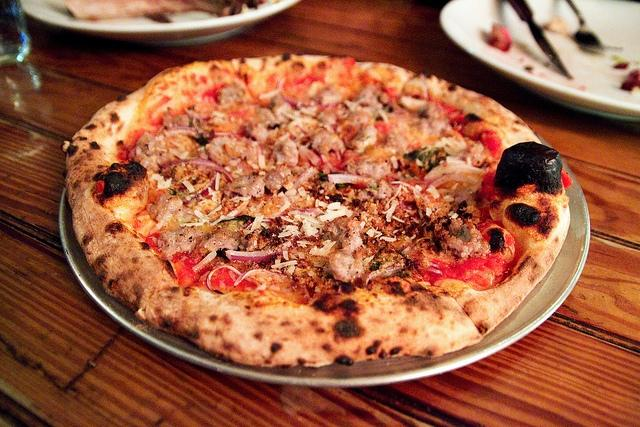onion: (162, 158, 235, 183), (192, 115, 232, 138), (350, 98, 388, 122), (424, 174, 480, 190), (190, 170, 217, 200), (226, 249, 278, 263), (277, 78, 298, 108), (328, 174, 368, 188), (400, 94, 428, 112), (167, 126, 201, 138), (287, 206, 323, 216), (258, 89, 279, 101), (193, 210, 210, 223), (391, 155, 398, 170), (212, 266, 216, 270)
